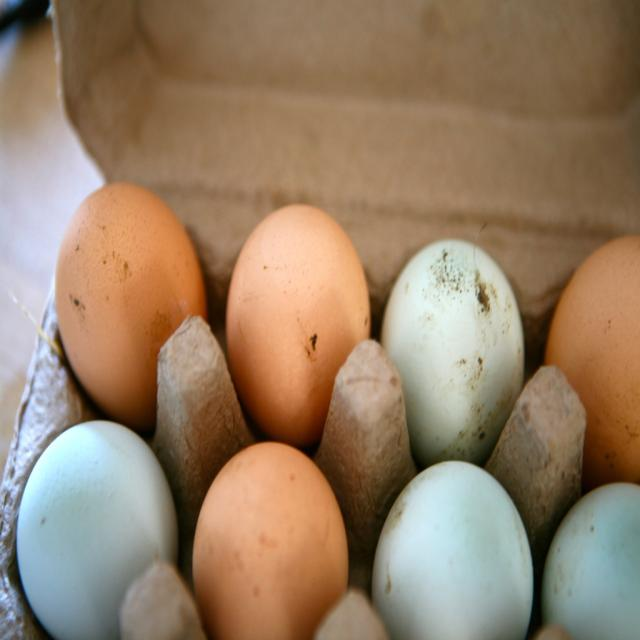Egg: (56, 177, 210, 432), (222, 203, 375, 455), (13, 421, 177, 633), (382, 239, 524, 459), (192, 440, 348, 640), (372, 458, 537, 640), (538, 234, 640, 486), (538, 486, 640, 639)
